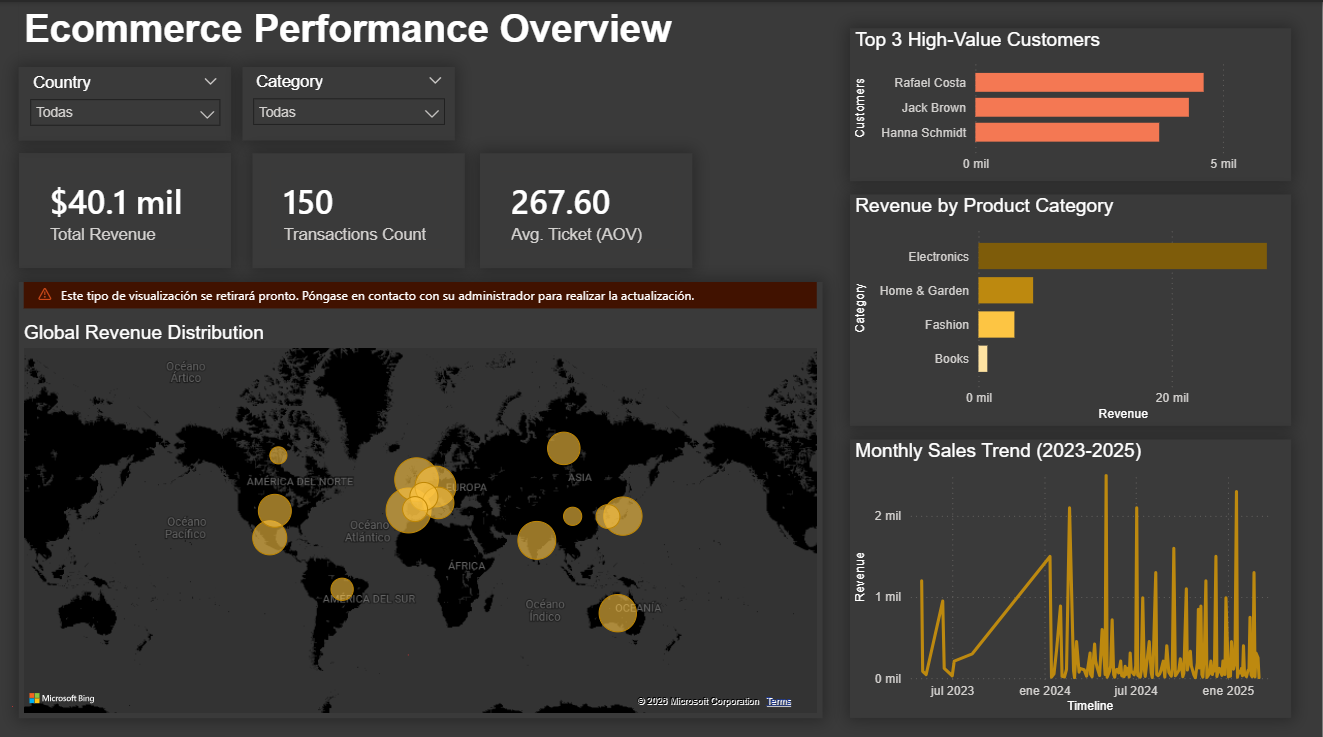

This screenshot's page, from the dashboard's own definition file:
{"tool":"powerbi","page":{"name":"Página 1","canvas":[1280,720],"ordinal":0},"visuals":[{"type":"textbox","box":[18.2,0,692.4,62.9],"z":0},{"type":"slicer","fields":{"Values":["dim_users.country"]},"box":[18.2,62.9,205.8,71.4],"z":1000},{"type":"slicer","fields":{"Values":["fact_transactions.product_category"]},"box":[234.8,62.9,205.8,71.4],"z":2000},{"type":"cardVisual","fields":{"Data":["fact_transactions.TotalRevenue"]},"box":[18.2,146.5,205.8,111.4],"z":3000},{"type":"cardVisual","fields":{"Data":["fact_transactions.TotalTransactions"]},"box":[244.5,146.5,205.8,111.4],"z":4000},{"type":"cardVisual","fields":{"Data":["fact_transactions.AoV"]},"box":[464.8,146.5,205.8,111.4],"z":5000},{"type":"clusteredBarChart","title":"Top 3 High-Value Customers","fields":{"Category":["dim_users.user_name"],"Y":["Sum(fact_transactions.amount)"]},"box":[823.1,25.4,427.3,147.7],"z":6000},{"type":"clusteredBarChart","title":"Revenue by Product Category","fields":{"Category":["fact_transactions.product_category"],"Y":["Sum(fact_transactions.amount)"]},"box":[823.1,186.4,427.3,223.9],"z":7000},{"type":"lineChart","title":"Monthly Sales Trend (2023-2025)","fields":{"Category":["fact_transactions.transaction_date.Variación.Jerarquía de fechas.Año"],"Y":["Sum(fact_transactions.amount)"]},"box":[823.1,423.7,427.3,269.9],"z":8000},{"type":"map","title":"Global Revenue Distribution","fields":{"Category":["dim_users.country"],"Size":["Sum(fact_transactions.amount)"]},"box":[17.8,271.7,778,422.6],"z":9000}]}

Visuals, with their boxes in screenshot pixels (x1, y1, x2, y2), scaled from the page's 1280x720 canvas onto the 1323x737 screenshot:
textbox: bbox=(19, 0, 734, 64)
slicer - dim_users.country: bbox=(19, 64, 232, 137)
slicer - fact_transactions.product_category: bbox=(243, 64, 455, 137)
cardVisual - fact_transactions.TotalRevenue: bbox=(19, 150, 232, 264)
cardVisual - fact_transactions.TotalTransactions: bbox=(253, 150, 465, 264)
cardVisual - fact_transactions.AoV: bbox=(480, 150, 693, 264)
"Top 3 High-Value Customers" clusteredBarChart: bbox=(851, 26, 1292, 177)
"Revenue by Product Category" clusteredBarChart: bbox=(851, 191, 1292, 420)
"Monthly Sales Trend (2023-2025)" lineChart: bbox=(851, 434, 1292, 710)
"Global Revenue Distribution" map: bbox=(18, 278, 823, 711)
